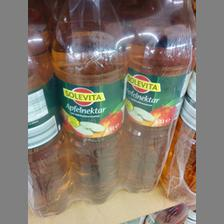Saft: (49, 0, 124, 204), (123, 0, 195, 192)
